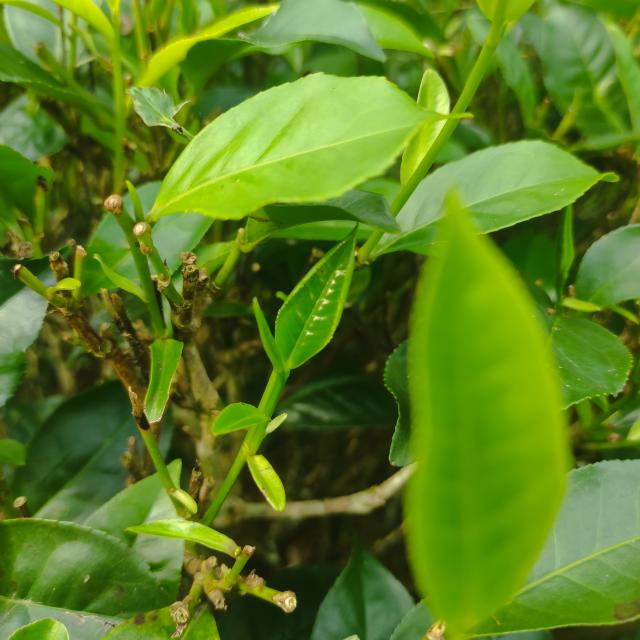unopened_leaf: (247, 291, 292, 384), (119, 174, 151, 226)
